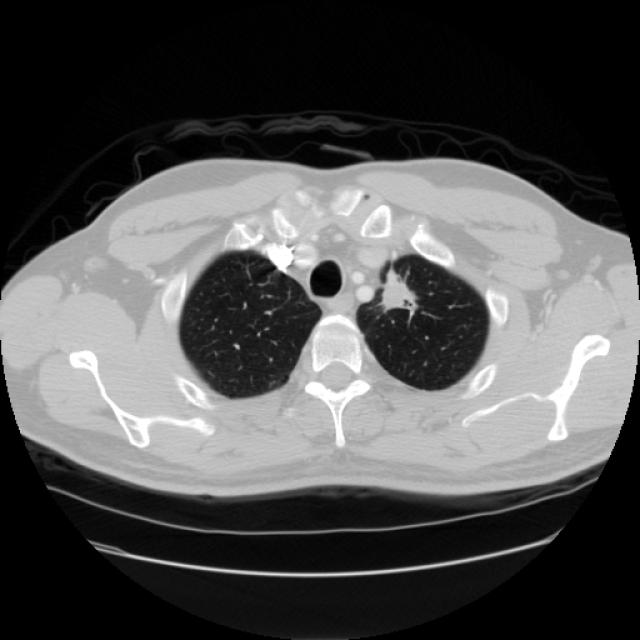nodule: (356, 254, 436, 334)
